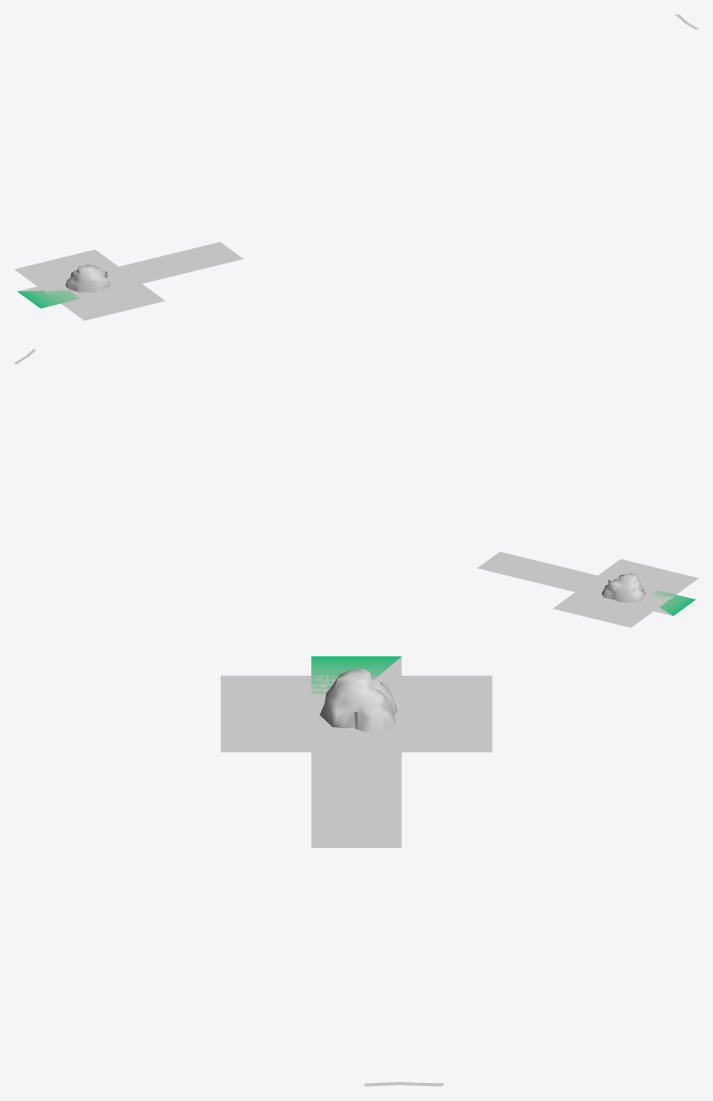
File: GameObject.fbx
The picture shows the model from 3 angles, top to bottom: view 1: azimuth 30°, elevation 25°; view 2: azimuth 150°, elevation 25°; view 3: azimuth 270°, elevation 25°; orthographic projection. The views are drawn at different scales.
Parts seen in each view (by area): view 1: Terrain_Road_24x16_02, Terrain_Road_8x32_01, Terrain_Road_8x16_01, Rock_03; view 2: Terrain_Road_24x16_02, Terrain_Road_8x32_01, Rock_03, Terrain_Road_8x16_01; view 3: Terrain_Road_24x16_02, Terrain_Road_8x32_01, Rock_03, Terrain_Road_8x16_01, Terrain_Road_8x8_01.
Part boxes in pixels (left/top/right/bottom): Terrain_Road_24x16_02: left=14, top=249, right=164, bottom=320; Terrain_Road_8x32_01: left=58, top=242, right=242, bottom=297; Terrain_Road_8x16_01: left=17, top=281, right=80, bottom=308; Rock_03: left=65, top=264, right=109, bottom=292; Terrain_Road_24x16_02: left=553, top=559, right=698, bottom=627; Terrain_Road_8x32_01: left=477, top=552, right=655, bottom=605; Rock_03: left=601, top=573, right=645, bottom=602; Terrain_Road_8x16_01: left=597, top=590, right=695, bottom=615; Terrain_Road_24x16_02: left=220, top=675, right=492, bottom=752; Terrain_Road_8x32_01: left=311, top=694, right=401, bottom=847; Rock_03: left=320, top=669, right=397, bottom=732; Terrain_Road_8x16_01: left=311, top=656, right=401, bottom=732; Terrain_Road_8x8_01: left=311, top=694, right=401, bottom=732.
Bounding box in the file's own units: 13241 × 2003 × 2400.
